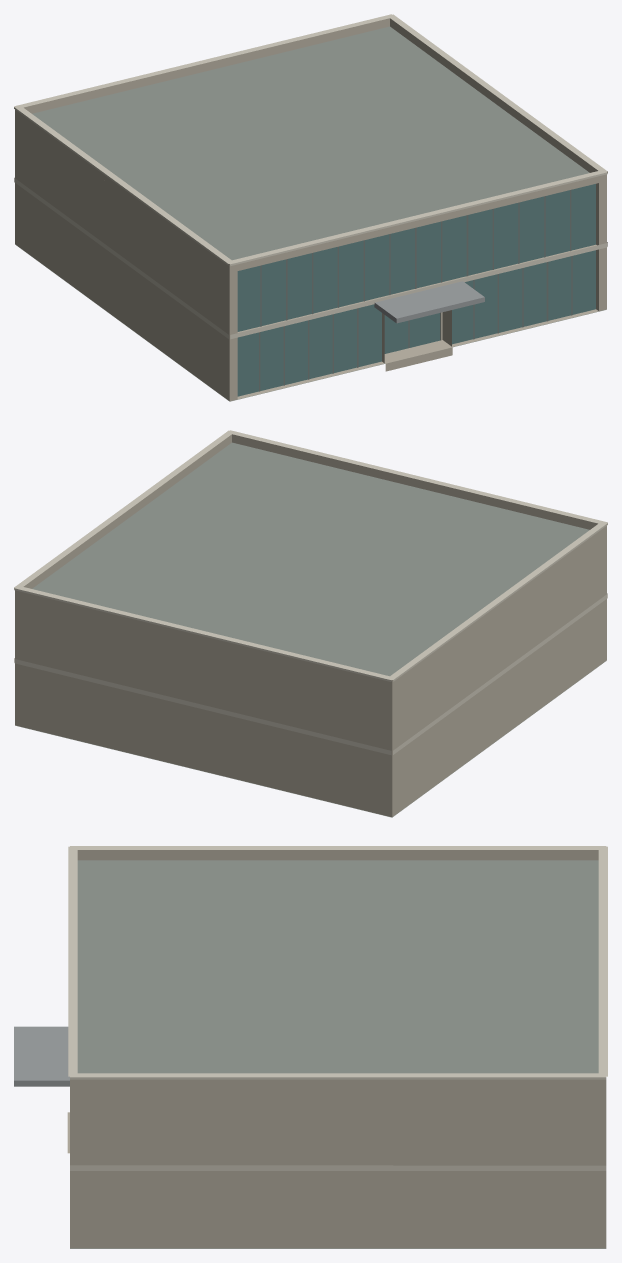
The picture shows the model from 3 angles, top to bottom: view 1: azimuth 30°, elevation 25°; view 2: azimuth 150°, elevation 25°; view 3: azimuth 270°, elevation 25°; orthographic projection. The views are drawn at different scales.
Visible parts, largest first — view 1: concert__roof, concert__glass, concert__wall, concert__trim, concert__parapet, concert__frame, concert__canopy, concert__entranceThreshold_0; view 2: concert__wall, concert__roof, concert__trim, concert__parapet; view 3: concert__roof, concert__wall, concert__trim, concert__parapet, concert__canopy.
Boxes of the visible parts, x1,y1,x2,y2 form: concert__roof: (15, 26, 606, 401); concert__glass: (237, 184, 595, 396); concert__wall: (15, 115, 606, 401); concert__trim: (14, 14, 607, 339); concert__parapet: (15, 18, 606, 271); concert__frame: (259, 190, 572, 391); concert__canopy: (374, 281, 484, 323); concert__entranceThreshold_0: (384, 340, 452, 371); concert__wall: (15, 531, 606, 817); concert__roof: (15, 442, 606, 817); concert__trim: (14, 430, 607, 755); concert__parapet: (15, 434, 606, 687); concert__roof: (70, 860, 606, 1248); concert__wall: (70, 1087, 606, 1248); concert__trim: (68, 846, 607, 1170); concert__parapet: (70, 850, 606, 1086); concert__canopy: (14, 1026, 69, 1086).
Bounding box in the file's own units: 21.51 × 7.85 × 23.34.
